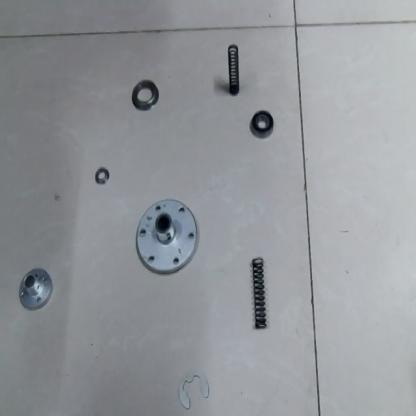FOD: (1, 2, 414, 413), (134, 195, 201, 279), (15, 266, 55, 315), (248, 253, 270, 332), (177, 366, 212, 410), (223, 43, 243, 100), (130, 78, 160, 114), (249, 106, 276, 142), (93, 164, 112, 189)
